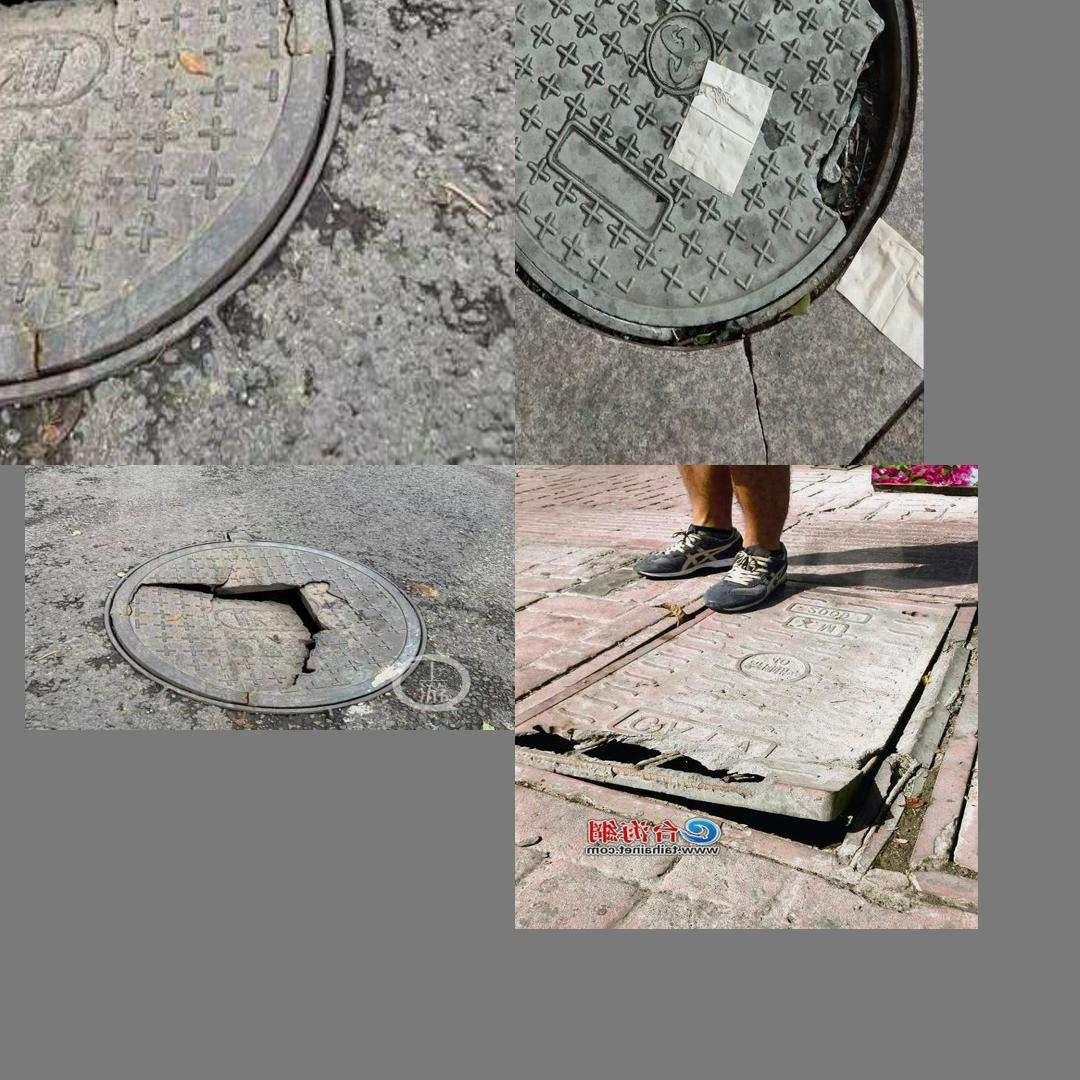broke: (0, 0, 362, 427), (520, 0, 915, 354), (515, 588, 961, 862), (98, 536, 455, 712)
